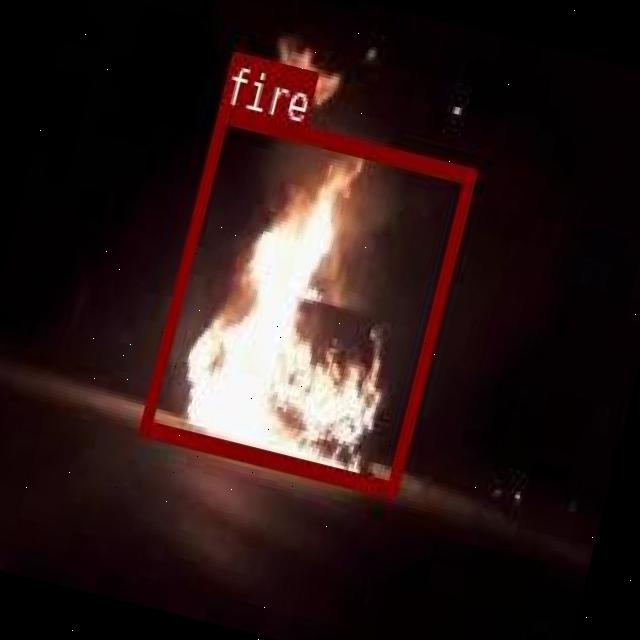fire: (138, 103, 476, 493)
